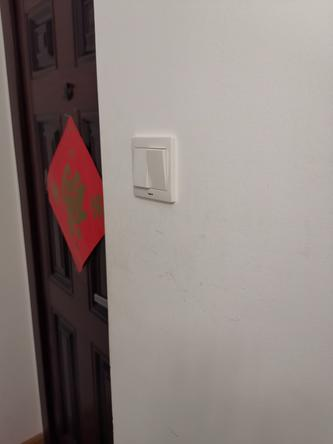switch: (143, 145, 171, 194), (129, 144, 153, 191)
